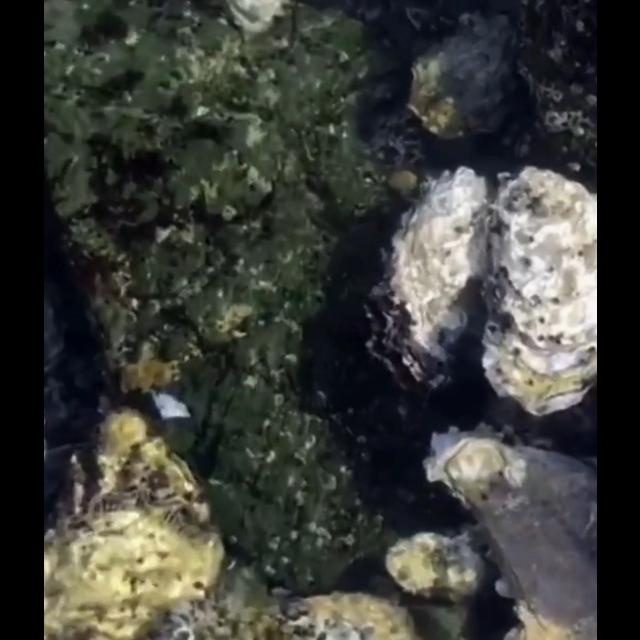Oyster-Closed: (44, 409, 226, 640), (419, 426, 596, 640), (478, 169, 596, 423), (405, 19, 517, 144), (156, 592, 414, 640), (383, 532, 489, 606)
Oyster-Open: (363, 168, 493, 402)
